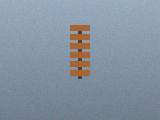insulator: (68, 23, 92, 80)
